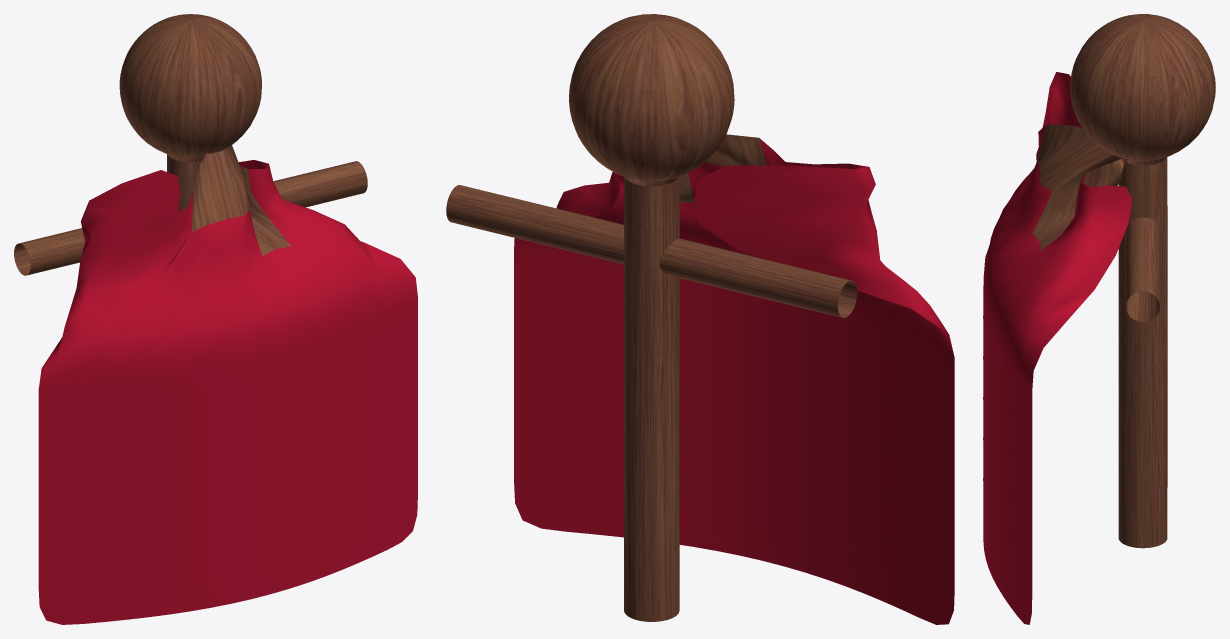
3 renders of one model, left to right at view 1: azimuth 30°, elevation 25°; view 2: azimuth 150°, elevation 25°; view 3: azimuth 270°, elevation 25°, orthographic. The views are drawn at different scales.
Parts seen in each view (by area): view 1: scarecrow_with_cape; view 2: scarecrow_with_cape; view 3: scarecrow_with_cape.
Part boxes in pixels (box(x1,y1,x2,y2)): scarecrow_with_cape: box(14, 14, 417, 624); scarecrow_with_cape: box(446, 14, 954, 624); scarecrow_with_cape: box(983, 14, 1215, 624).
Size of the model in its own units: 1800 by 2348 by 937.
Materials: 2 (1 with a texture image).
